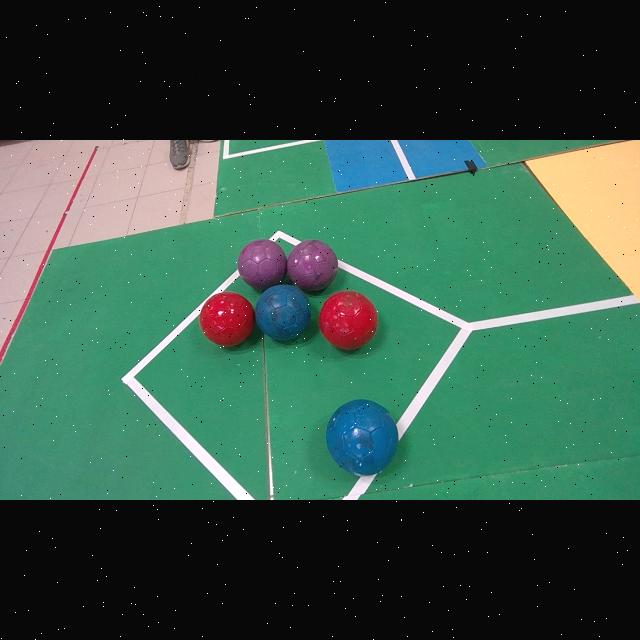B: (326, 399, 398, 475), (255, 285, 310, 341)
P: (287, 239, 339, 291), (238, 239, 287, 290)
R: (318, 291, 377, 350), (199, 292, 255, 346)
